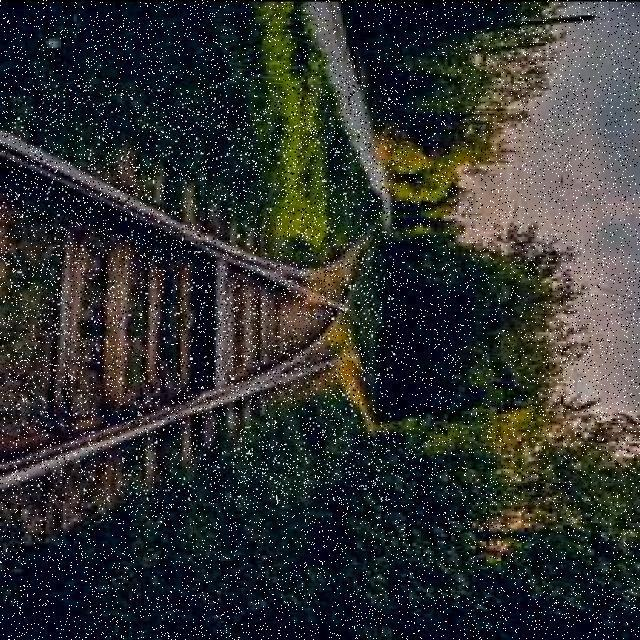rail: (3, 84, 394, 500)
